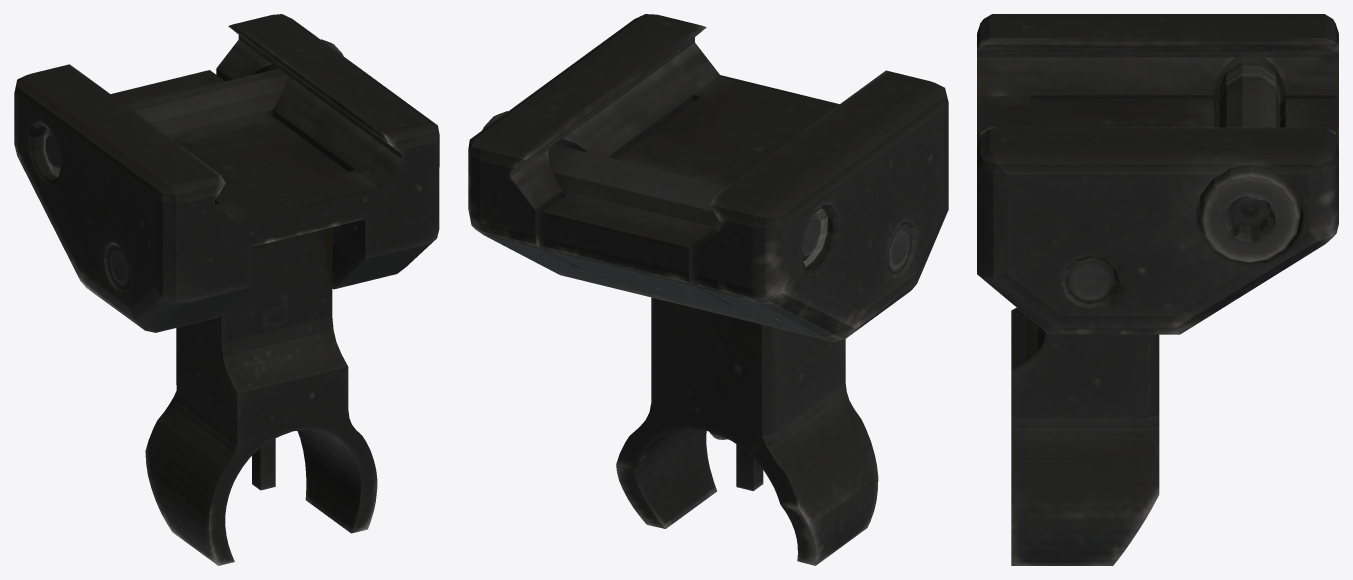
The picture shows the model from 3 angles, left to right: view 1: azimuth 30°, elevation 25°; view 2: azimuth 150°, elevation 25°; view 3: azimuth 270°, elevation 25°; orthographic projection. The views are drawn at different scales.
Parts seen in each view (by area): view 1: TW_5894a73486f77426d259076c_PZ_Import; view 2: TW_5894a73486f77426d259076c_PZ_Import; view 3: TW_5894a73486f77426d259076c_PZ_Import.
Boxes of the visible parts, x1,y1,x2,y2 form: TW_5894a73486f77426d259076c_PZ_Import: (14,14,439,565); TW_5894a73486f77426d259076c_PZ_Import: (468,14,948,565); TW_5894a73486f77426d259076c_PZ_Import: (977,14,1338,565).
Size of the model in its own units: 0.019 by 0.0185 by 0.025.
1 material, 1 textured.
